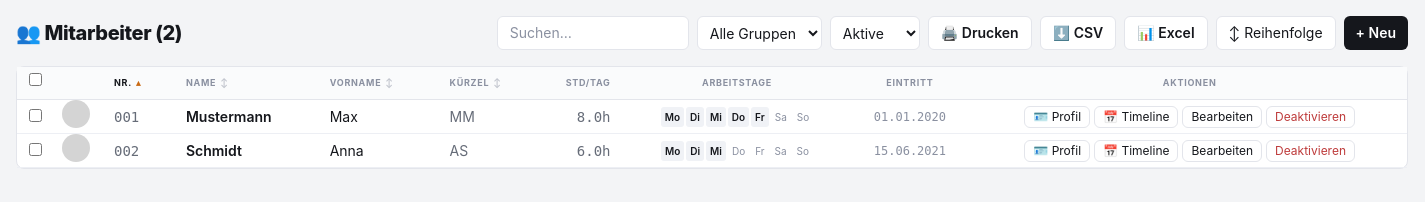
Scenario: Employees page › filters employees to empty list when search has no match
Expected: the text "Mustermann" is shown, [170,100,314,134]
Type "zzznobody" into the field with placeholder "Suchen…" at (593, 33), box [497,16,689,50]
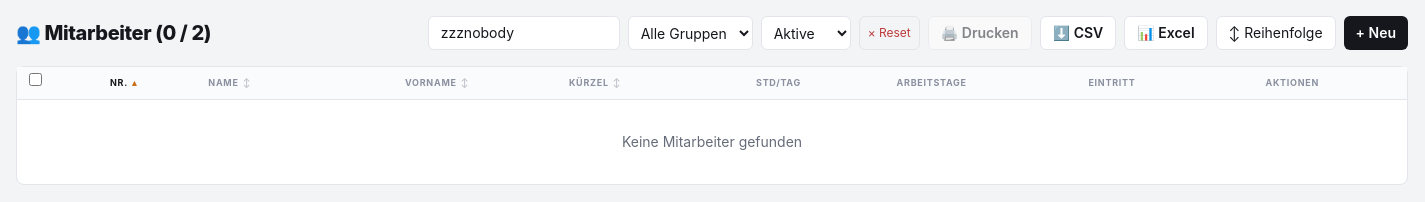
Expected: the text "Mustermann" is gone
Expected: the text "Schmidt" is gone
